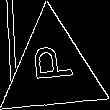P_W: (28, 49, 77, 91)
